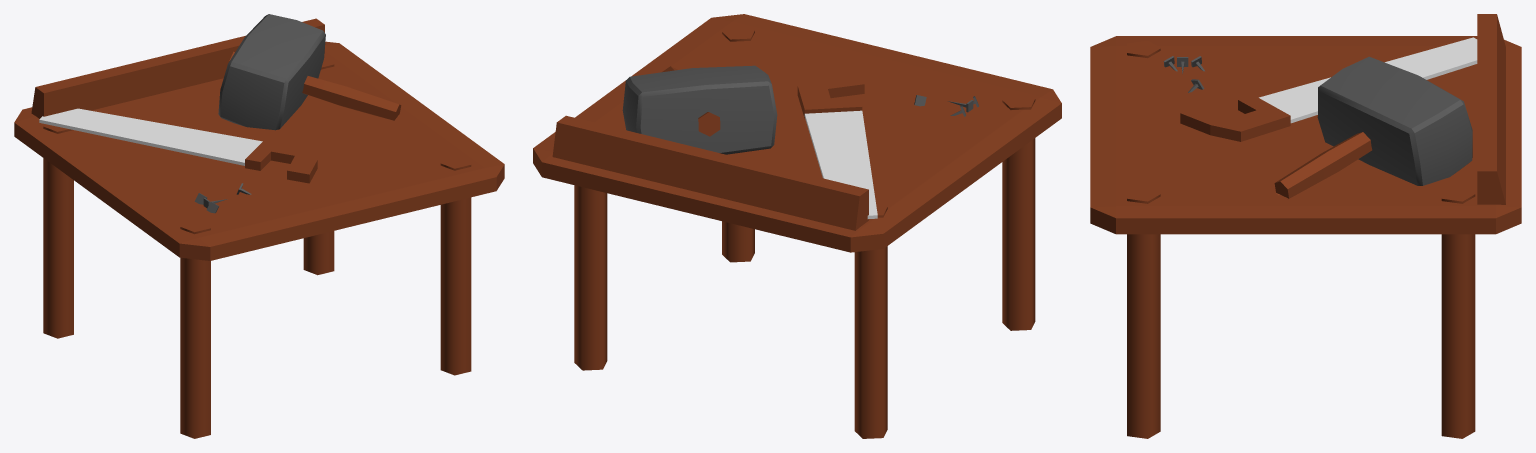
The model's file is CraftingTable.fbx.
3 renders of one model, left to right at view 1: azimuth 30°, elevation 25°; view 2: azimuth 150°, elevation 25°; view 3: azimuth 270°, elevation 25°, orthographic. The views are drawn at different scales.
Parts seen in each view (by area): view 1: Cylinder.003; view 2: Cylinder.003; view 3: Cylinder.003.
Boxes of the visible parts, bbox=[...] form: Cylinder.003: bbox=[14, 14, 504, 438]; Cylinder.003: bbox=[533, 14, 1061, 438]; Cylinder.003: bbox=[1090, 14, 1521, 438].
Bounding box in the file's own units: 200 × 157 × 200.
